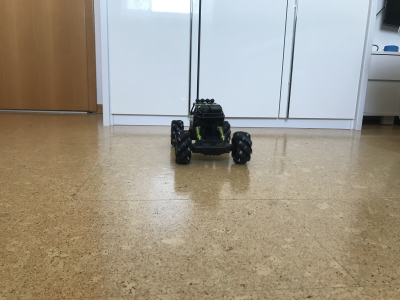remote control car: (168, 97, 254, 167)
